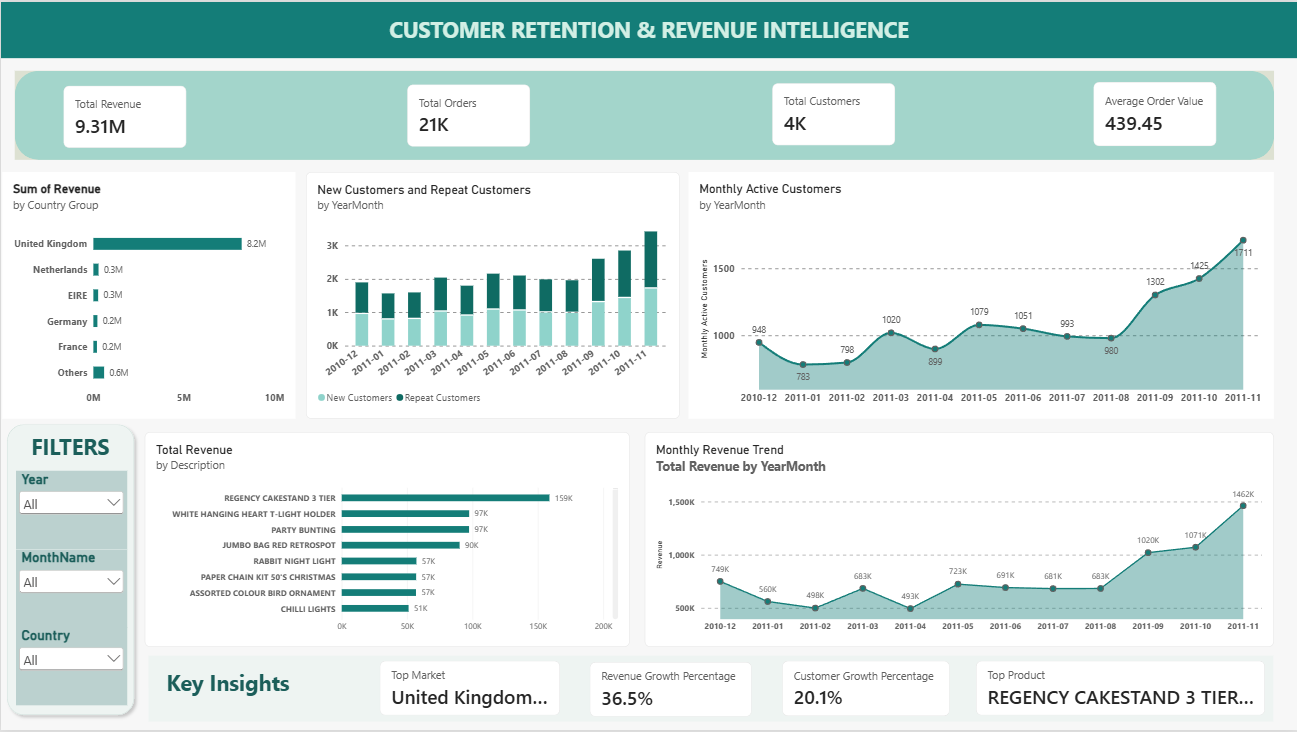

The dashboard page shown, as its layout file describes it:
{"tool":"powerbi","page":{"name":"Page 1","canvas":[1920,1080],"ordinal":0},"visuals":[{"type":"shape","box":[19.9,101.3,1865.8,132.1],"z":0},{"type":"shape","box":[0,617.1,206.3,448.8],"z":1000},{"type":"textbox","box":[0,0,1920.1,83.2],"z":2000},{"type":"cardVisual","fields":{"Data":["Online Retail.Total Revenue"]},"box":[92.3,124.9,182.8,92.3],"z":3000},{"type":"cardVisual","fields":{"Data":["Online Retail.Total Orders"]},"box":[602.6,123.1,182.8,92.3],"z":4000},{"type":"cardVisual","fields":{"Data":["Online Retail.Total Customers"]},"box":[1141.9,121.2,182.8,92.3],"z":5000},{"type":"cardVisual","fields":{"Data":["Online Retail.Average Order Value"]},"box":[1617.8,117.6,182.8,95.9],"z":6000},{"type":"lineChart","title":"Monthly Revenue Trend","fields":{"Category":["DateTable.YearMonth"],"Y":["Online Retail.Total Revenue"]},"box":[953.7,637,932,318.5],"z":7000},{"type":"clusteredBarChart","fields":{"Category":["Country Revenue Groups.Country Group"],"Y":["Sum(Country Revenue Groups.Revenue)"]},"box":[1.8,251.5,434.3,365.6],"z":8000},{"type":"clusteredBarChart","fields":{"Category":["Online Retail.Description"],"Y":["Online Retail.Total Revenue"]},"box":[213.5,637,718.4,318.5],"z":9000},{"type":"lineChart","fields":{"Category":["DateTable.YearMonth"],"Y":["Online Retail.Monthly Active Customers"]},"box":[1018.8,251.5,866.8,365.6],"z":10000},{"type":"slicer","fields":{"Values":["DateTable.Year"]},"box":[21.7,694.9,164.6,116.3],"z":11000},{"type":"slicer","fields":{"Values":["DateTable.MonthName"]},"box":[21.7,810.7,164.6,116.3],"z":12000},{"type":"slicer","fields":{"Values":["Online Retail.Country"]},"box":[21.7,926.5,164.6,116.3],"z":13000},{"type":"textbox","box":[19.9,637,164.7,47.1],"z":14000},{"type":"textbox","box":[219,968.2,1666.7,97.7],"z":15000},{"type":"cardVisual","fields":{"Data":["Online Retail.Revenue Growth Percentage"]},"box":[872.3,977.2,240.7,81.4],"z":16000},{"type":"cardVisual","fields":{"Data":["Online Retail.Customer Growth Percentage"]},"box":[1158.2,975.4,248.6,82.2],"z":17000},{"type":"cardVisual","fields":{"Data":["Online Retail.Top Market"]},"box":[561,975.4,267.8,81.4],"z":18000},{"type":"cardVisual","fields":{"Data":["Online Retail.Top Product"]},"box":[1444.1,975.4,428.9,81.4],"z":19000},{"type":"columnChart","fields":{"Category":["DateTable.YearMonth"],"Y":["Online Retail.New Customers","Online Retail.Repeat Customers"]},"box":[452.4,251.5,553.8,365.6],"z":19001}]}

Visuals, with their boxes in screenshot pixels (x1, y1, x2, y2), scaled from the page's 1920x1080 canvas onto the 1297x732 screenshot:
shape: (13, 69, 1274, 158)
shape: (0, 418, 139, 722)
textbox: (0, 0, 1296, 56)
cardVisual - Online Retail.Total Revenue: (62, 85, 186, 147)
cardVisual - Online Retail.Total Orders: (407, 83, 531, 146)
cardVisual - Online Retail.Total Customers: (771, 82, 895, 145)
cardVisual - Online Retail.Average Order Value: (1093, 80, 1216, 145)
"Monthly Revenue Trend" lineChart: (644, 432, 1274, 648)
clusteredBarChart - Country Revenue Groups.Country Group x Sum(Country Revenue Groups.Revenue): (1, 170, 295, 418)
clusteredBarChart - Online Retail.Description x Online Retail.Total Revenue: (144, 432, 630, 648)
lineChart - DateTable.YearMonth x Online Retail.Monthly Active Customers: (688, 170, 1274, 418)
slicer - DateTable.Year: (15, 471, 126, 550)
slicer - DateTable.MonthName: (15, 549, 126, 628)
slicer - Online Retail.Country: (15, 628, 126, 707)
textbox: (13, 432, 125, 464)
textbox: (148, 656, 1274, 722)
cardVisual - Online Retail.Revenue Growth Percentage: (589, 662, 752, 717)
cardVisual - Online Retail.Customer Growth Percentage: (782, 661, 950, 717)
cardVisual - Online Retail.Top Market: (379, 661, 560, 716)
cardVisual - Online Retail.Top Product: (976, 661, 1265, 716)
columnChart - DateTable.YearMonth x Online Retail.New Customers: (306, 170, 680, 418)
